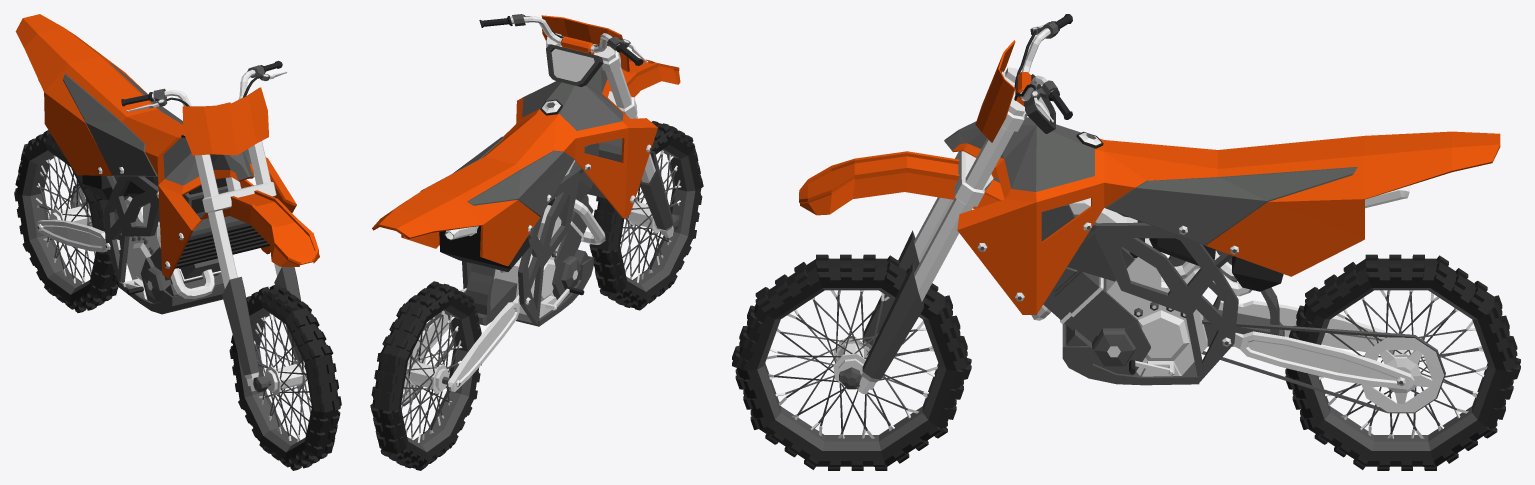
Rendered from Moto.fbx.
3 views of the same model, side by side, from view 1: azimuth 30°, elevation 25°; view 2: azimuth 150°, elevation 25°; view 3: azimuth 270°, elevation 25° (orthographic). The views are drawn at different scales.
Visible parts, largest first — view 1: Dirtbike_01, wheel_f_r, wheel_b, steering, motor, shield, mudguard, suspension, handlebars; view 2: Dirtbike_01, wheel_b, wheel_f_r, motor, steering, suspension, spring, handlebars, Spped, shield, mudguard; view 3: Dirtbike_01, wheel_b, wheel_f_r, motor, steering, suspension, mudguard, handlebars, chain, shield, spring, Spped.
Part boxes in pixels (x1,y1,x2,y2): Dirtbike_01: (15,14,296,314); wheel_f_r: (229,284,341,470); wheel_b: (14,130,120,312); steering: (195,141,305,392); motor: (82,175,228,302); shield: (182,87,268,155); mudguard: (201,190,319,266); suspension: (36,219,140,252); handlebars: (121,60,286,112); Dirtbike_01: (372,70,657,326); wheel_b: (370,281,481,470); wheel_f_r: (589,121,703,310); motor: (439,143,605,317); steering: (546,33,680,238); suspension: (416,288,520,391); spring: (466,263,517,325); handlebars: (479,14,647,65); Spped: (546,44,603,86); shield: (541,15,629,71); mudguard: (599,58,680,143); Dirtbike_01: (944,117,1500,385); wheel_b: (1285,254,1520,470); wheel_f_r: (732,254,971,470); motor: (1031,198,1283,376); steering: (839,67,1027,394); suspension: (1218,300,1414,389); mudguard: (799,151,1004,215); handlebars: (1014,14,1072,122); chain: (1201,320,1445,413); shield: (975,40,1015,142); spring: (1203,287,1284,346); Spped: (1024,74,1055,133).
Size of the model in its own units: 17.26 by 33.21 by 57.4.
